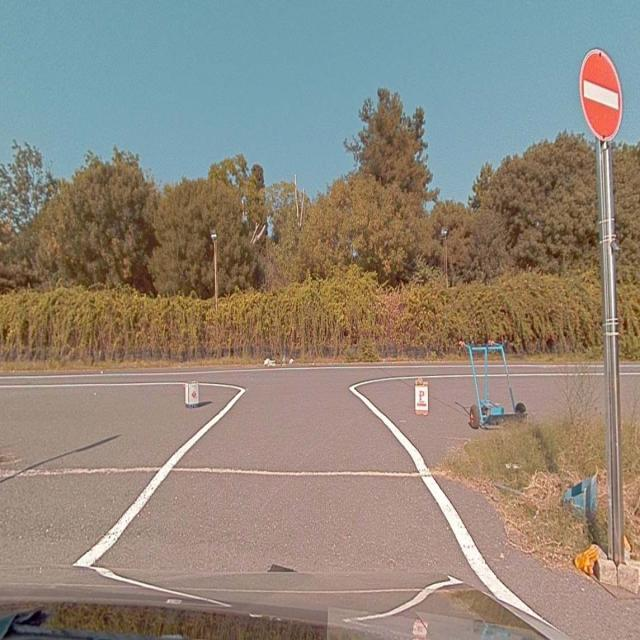girisyok: (581, 49, 622, 142)
